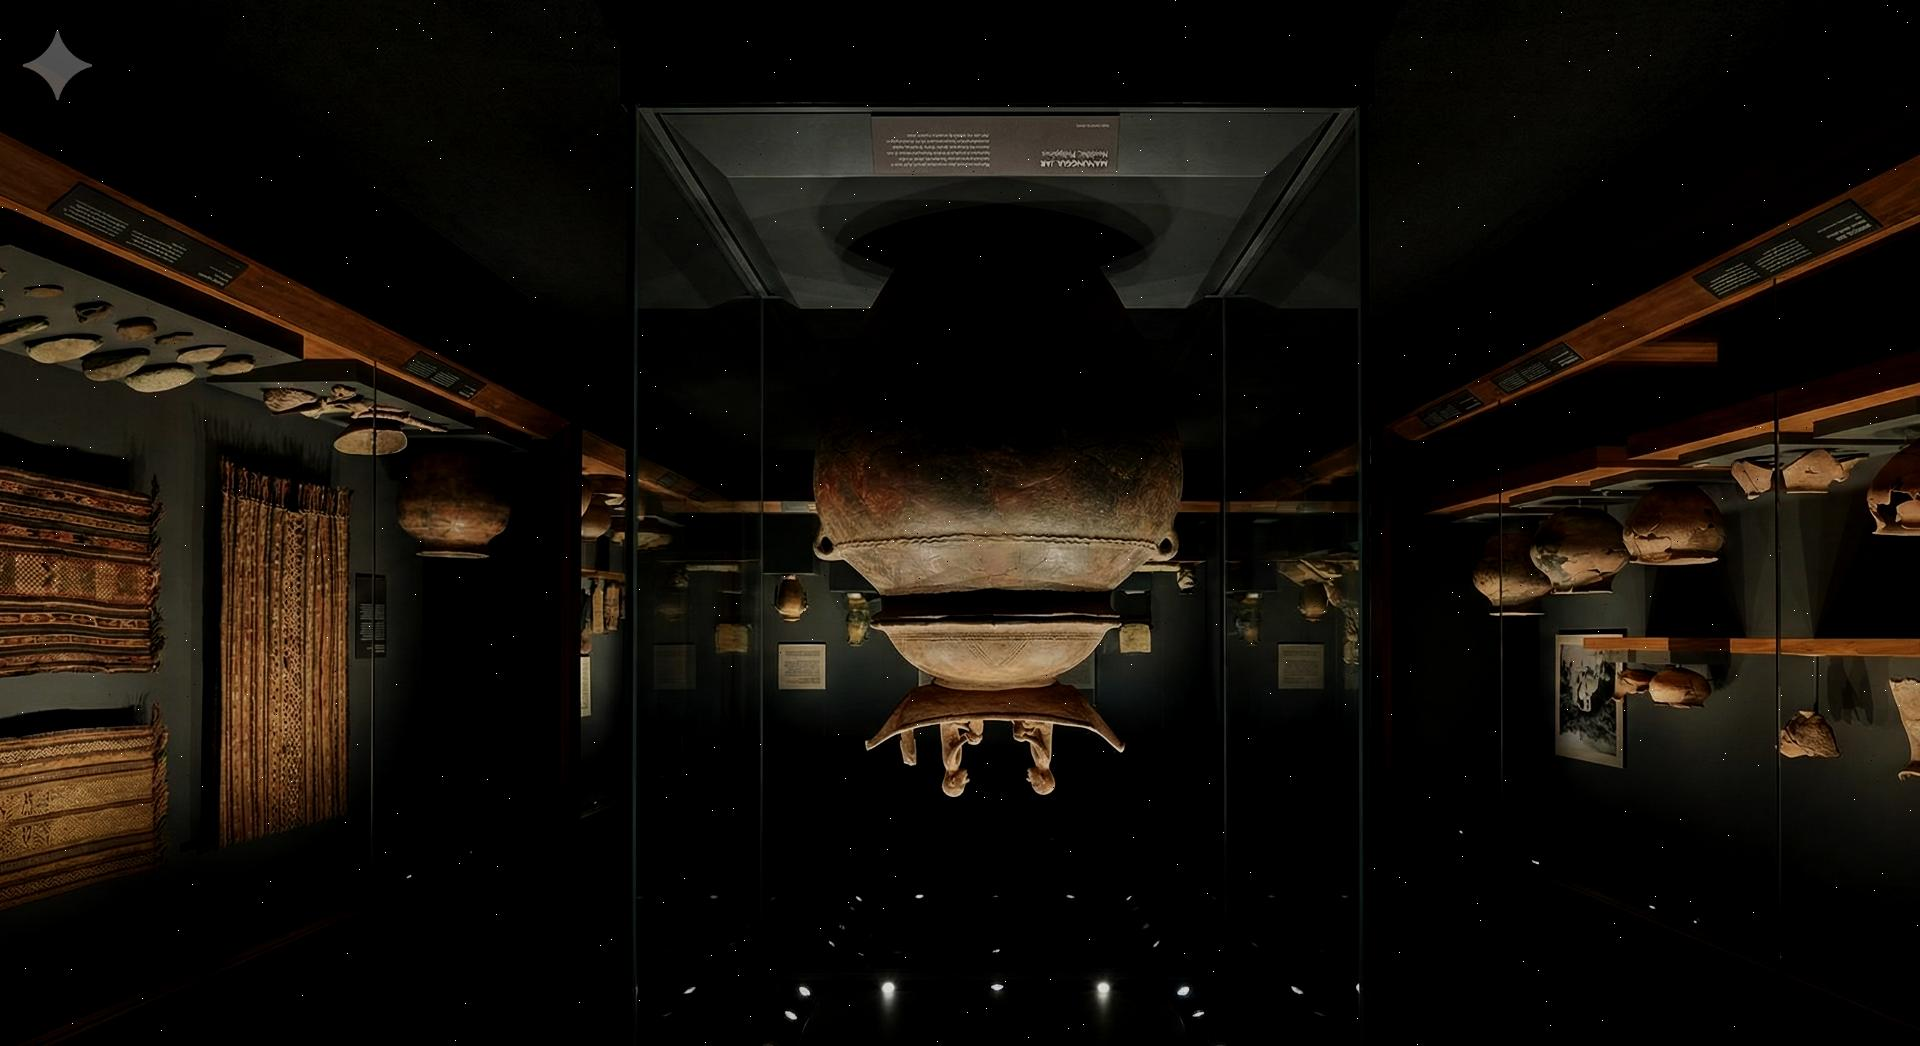manunggul_jar: (802, 211, 1189, 815)
